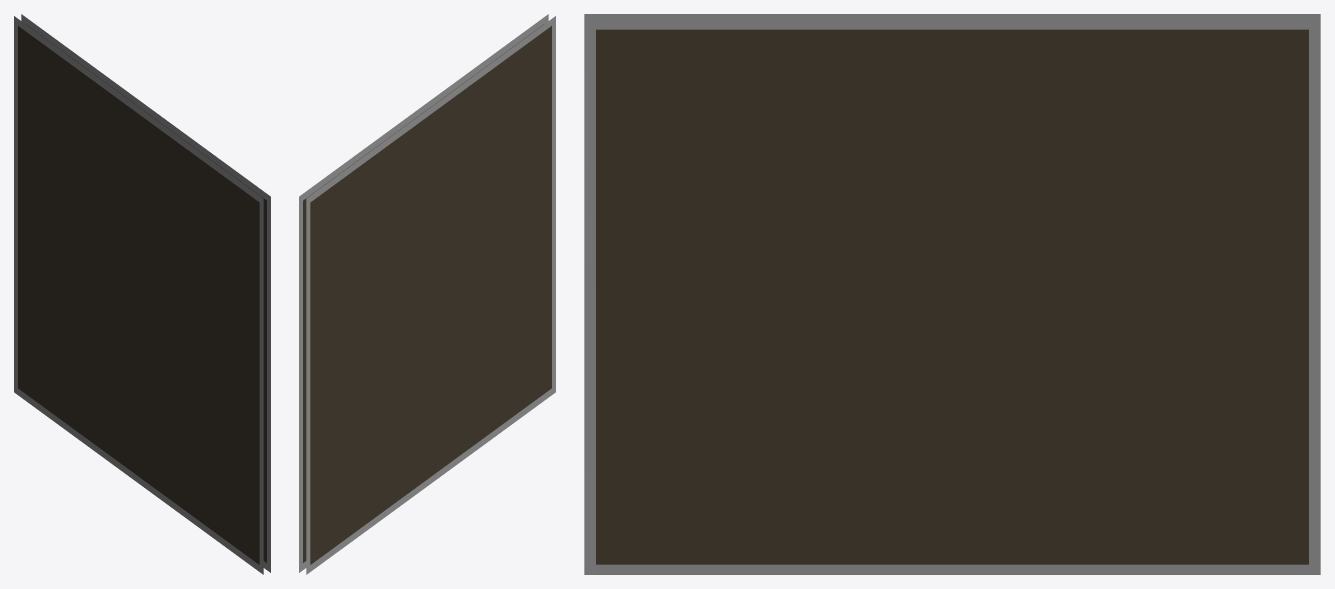
Rendered from SM_H_Structures_Fence_BarbedWire_04_ATLAS.fbx.
3 renders of one model, left to right at view 1: azimuth 30°, elevation 25°; view 2: azimuth 150°, elevation 25°; view 3: azimuth 270°, elevation 25°, orthographic. The views are drawn at different scales.
Visible parts, largest first — view 1: SM_H_Structures_Fence_BarbedWire_04_ATLAS; view 2: SM_H_Structures_Fence_BarbedWire_04_ATLAS; view 3: SM_H_Structures_Fence_BarbedWire_04_ATLAS.
Part boxes in pixels (left/top/right/bottom): SM_H_Structures_Fence_BarbedWire_04_ATLAS: left=14, top=14, right=270, bottom=574; SM_H_Structures_Fence_BarbedWire_04_ATLAS: left=299, top=14, right=555, bottom=574; SM_H_Structures_Fence_BarbedWire_04_ATLAS: left=584, top=14, right=1320, bottom=574.
Bounding box in the file's own units: 3.4 × 199 × 165.
